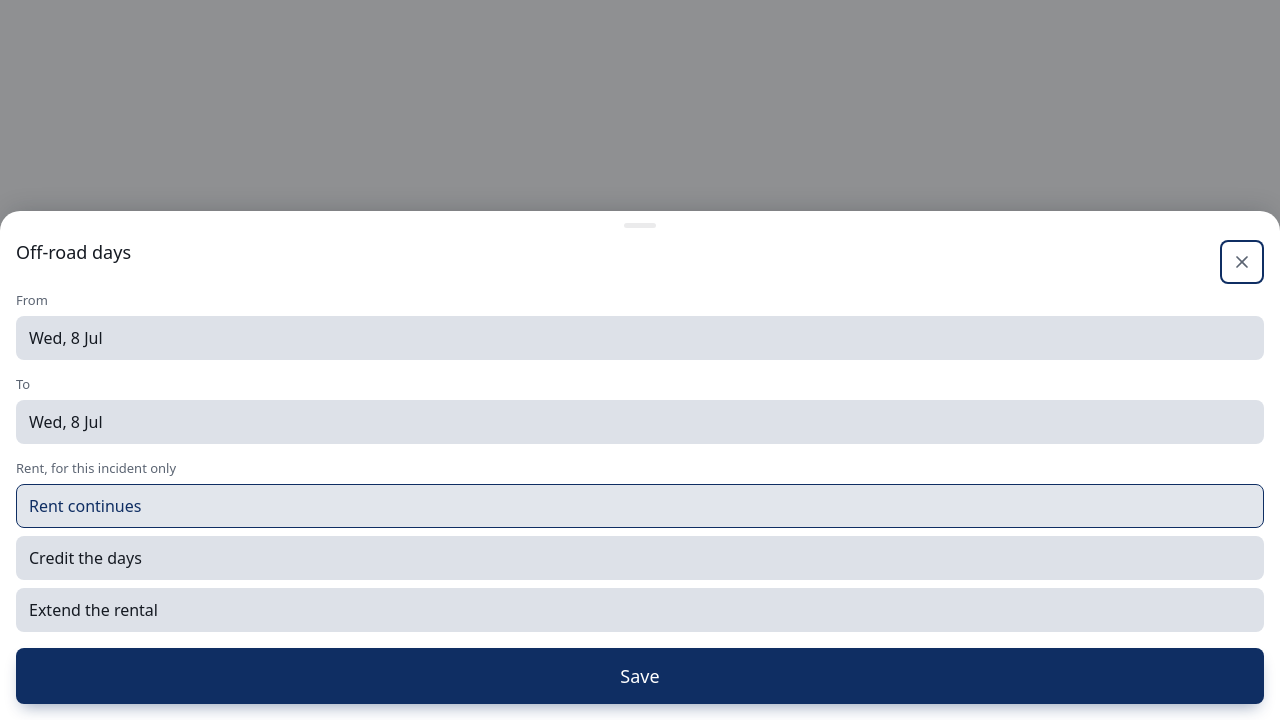
Scenario: a validation error (no lease to apply the treatment to) surfaces inline
Click the button "Credit the days". click: (85, 558)
box: [16, 536, 1264, 580]
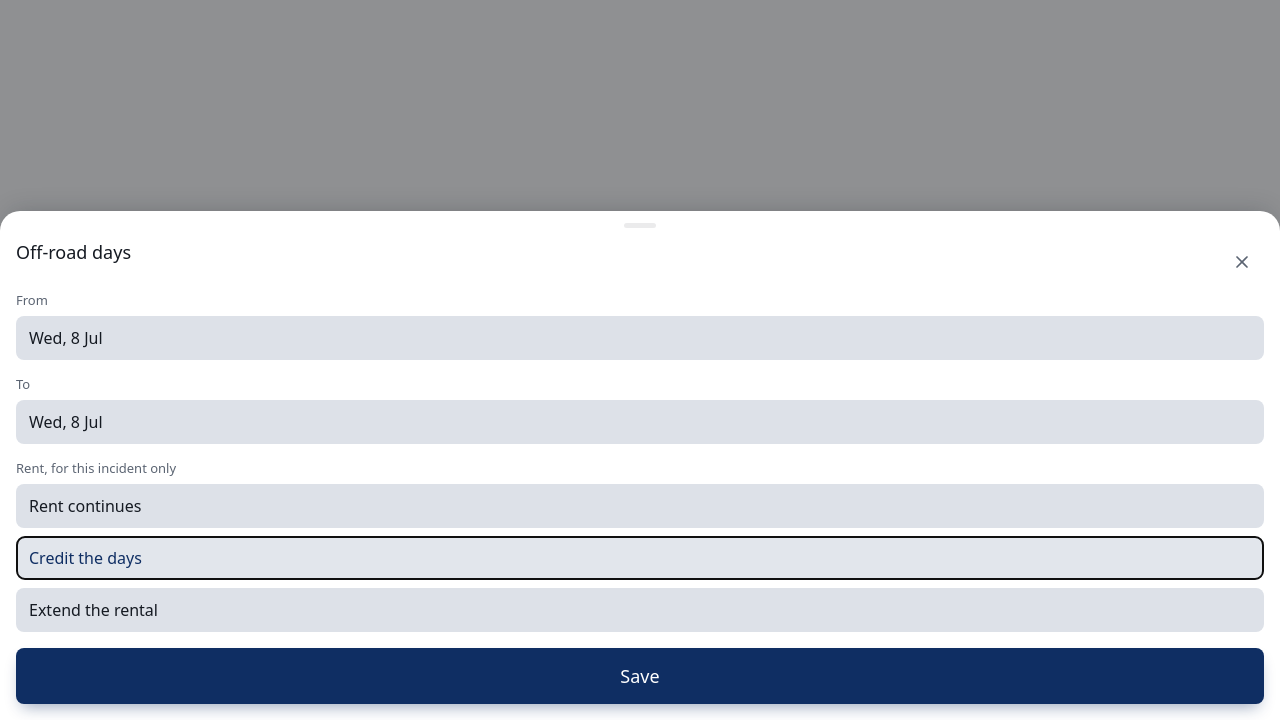
Click the button "Save". click: (640, 676)
box: [16, 648, 1264, 704]
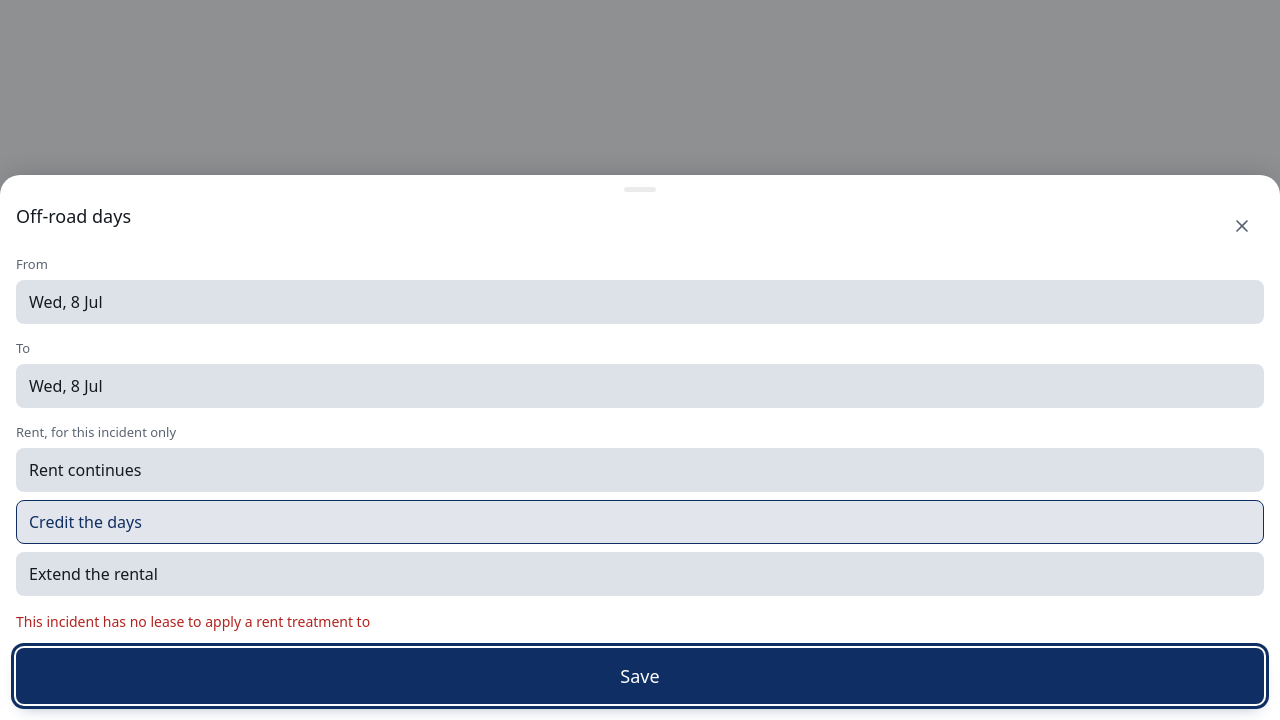
Check: the text "This incident has no lease to apply a rent treatment to" is shown, box [16, 612, 370, 631]
